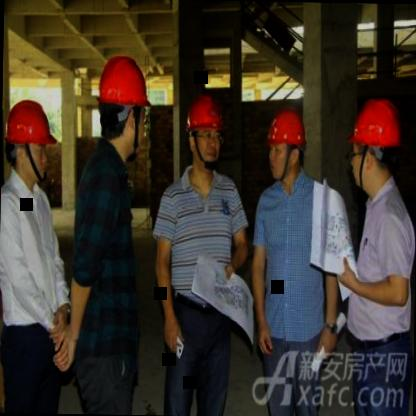helmet: (95, 50, 154, 162), (344, 94, 404, 192), (5, 96, 55, 184), (182, 90, 230, 172), (262, 108, 306, 181)
